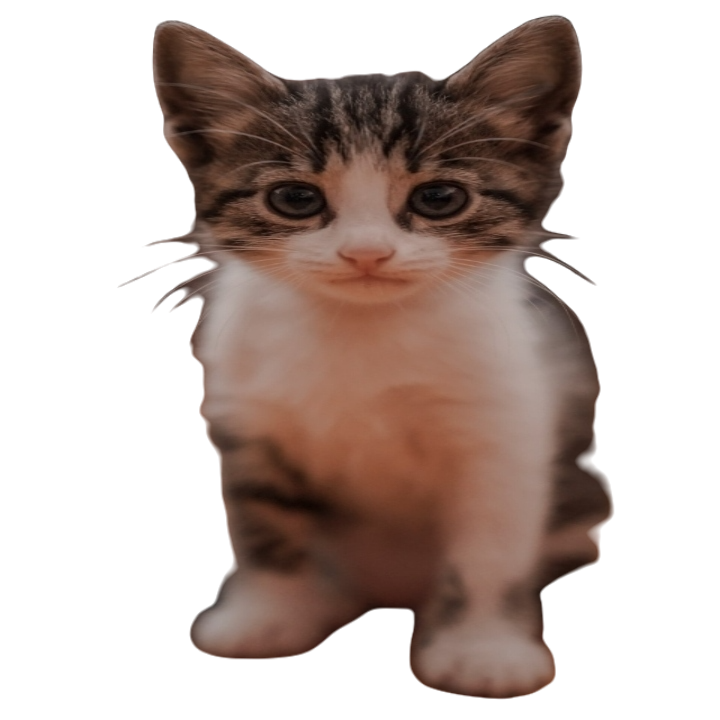Cat: (116, 10, 619, 702)
